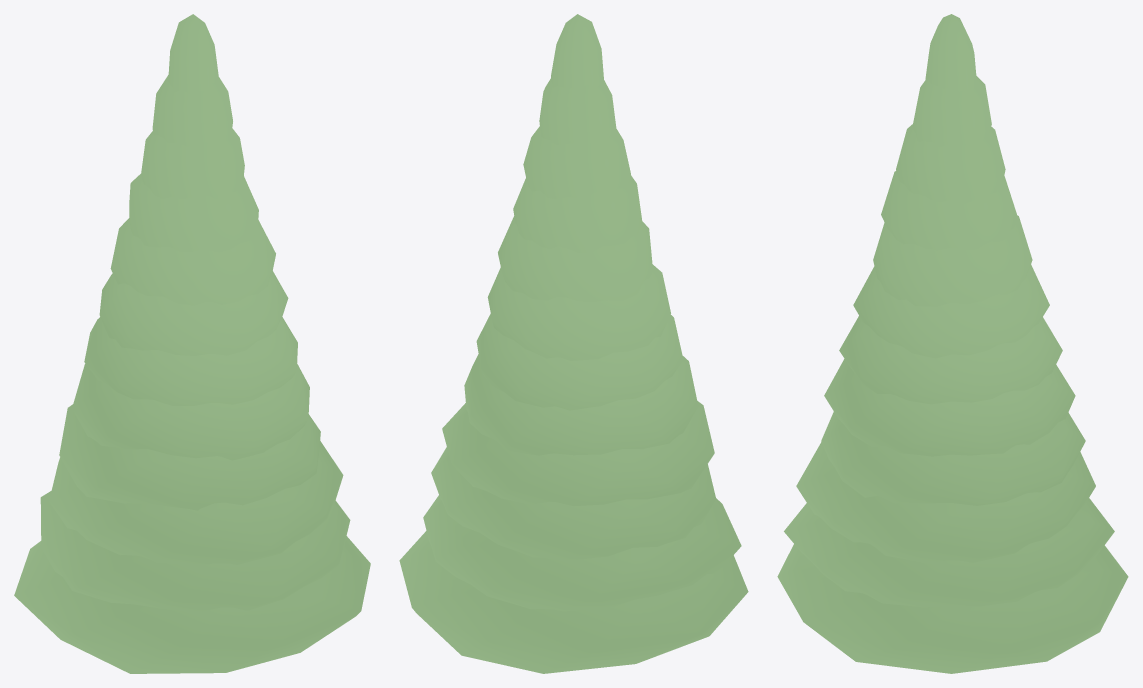
Rendered from Blender_GardenShrub_Cone.glb.
The picture shows the model from 3 angles, left to right: view 1: azimuth 30°, elevation 25°; view 2: azimuth 150°, elevation 25°; view 3: azimuth 270°, elevation 25°; orthographic projection.
Parts seen in each view (by area): view 1: Blender_GardenShrub_Cone; view 2: Blender_GardenShrub_Cone; view 3: Blender_GardenShrub_Cone.
Boxes of the visible parts, left/top/right/bottom form: Blender_GardenShrub_Cone: left=14, top=14, right=370, bottom=673; Blender_GardenShrub_Cone: left=399, top=14, right=748, bottom=673; Blender_GardenShrub_Cone: left=777, top=14, right=1128, bottom=673.
Size of the model in its own units: 0.7874 by 1.6 by 0.7979.
